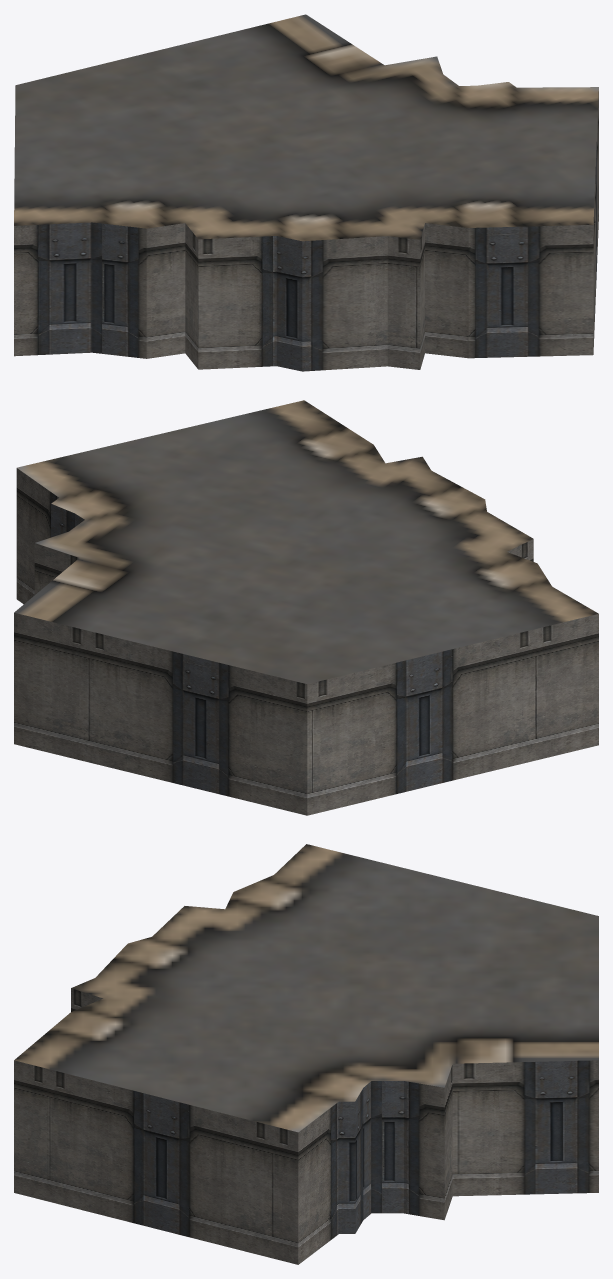
The model's file is building_heavy_37.glb.
The picture shows the model from 3 angles, top to bottom: view 1: azimuth 30°, elevation 25°; view 2: azimuth 150°, elevation 25°; view 3: azimuth 270°, elevation 25°; orthographic projection.
Visible parts, largest first — view 1: buildings/saxarba/building_heavy/building_heavy_37; view 2: buildings/saxarba/building_heavy/building_heavy_37; view 3: buildings/saxarba/building_heavy/building_heavy_37.
Boxes of the visible parts, box(x1,y1,x2,y2) form: buildings/saxarba/building_heavy/building_heavy_37: box(14, 14, 598, 371); buildings/saxarba/building_heavy/building_heavy_37: box(14, 400, 598, 815); buildings/saxarba/building_heavy/building_heavy_37: box(14, 844, 598, 1264).
Bounding box in the file's own units: 84 × 18 × 72.
